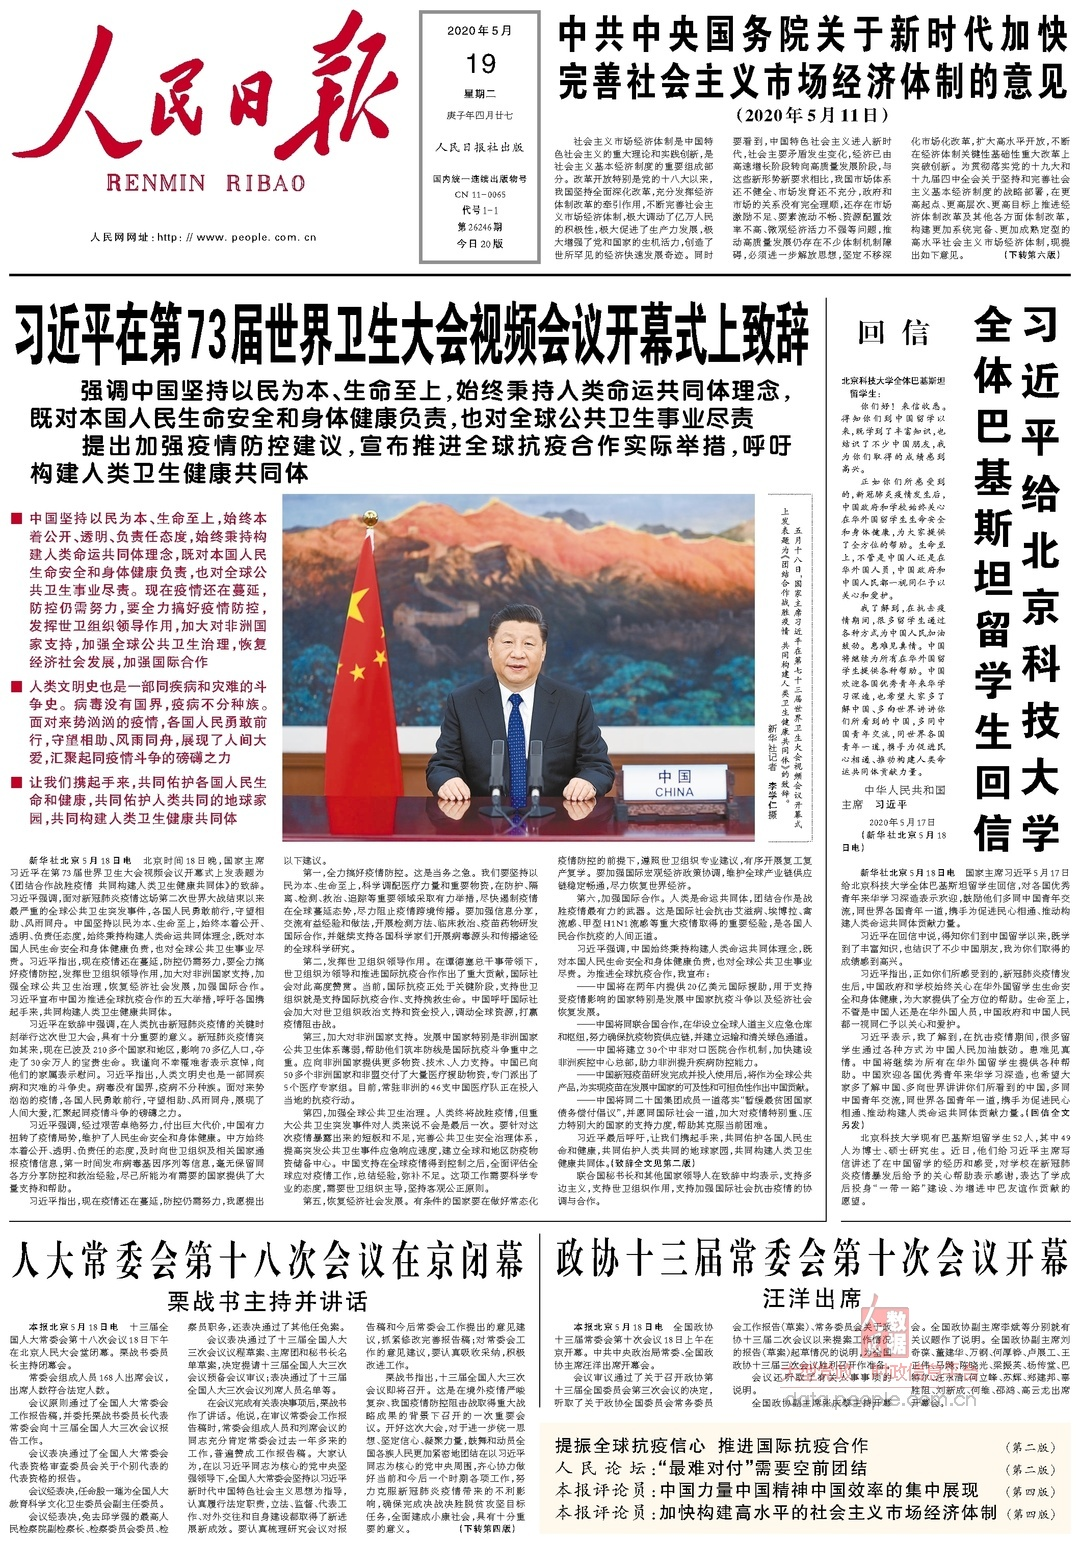pic: (277, 489, 758, 836)
